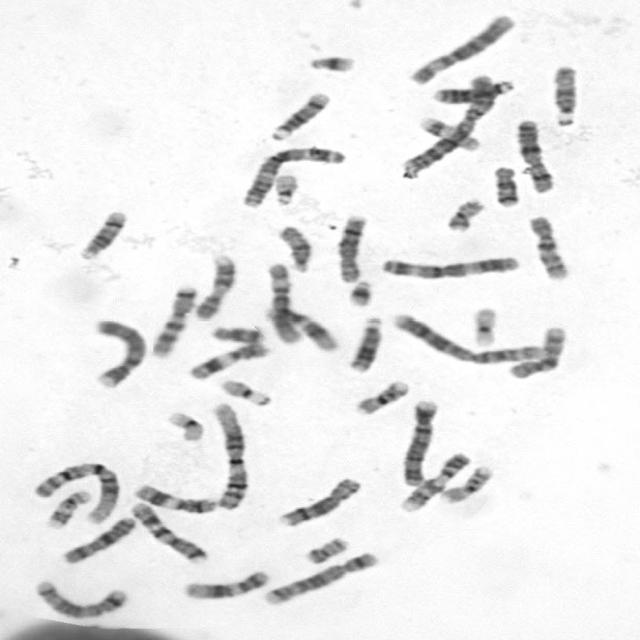A1: (30, 458, 122, 528), (207, 401, 250, 512)
A2: (396, 72, 498, 180), (388, 311, 546, 366)
A3: (235, 142, 347, 209), (377, 252, 519, 280)
B4: (88, 316, 149, 389), (397, 397, 439, 488)
B5: (261, 550, 381, 607), (30, 578, 129, 619)
C10: (504, 323, 568, 380), (523, 213, 572, 281)
C11: (184, 340, 272, 382), (130, 481, 217, 514)
C12: (261, 304, 341, 353), (180, 568, 270, 600)
C6: (404, 11, 517, 86), (264, 261, 305, 345)
C7: (126, 500, 212, 563), (147, 282, 199, 358)
C8: (274, 474, 364, 528), (332, 211, 368, 285)
C9: (396, 450, 472, 513), (192, 252, 239, 321)
D13: (345, 314, 385, 373), (428, 78, 516, 104)
D14: (265, 89, 333, 142), (76, 207, 130, 260)
D15: (548, 63, 581, 128), (274, 224, 314, 274)
E16: (437, 462, 495, 504), (350, 378, 411, 416)
E17: (416, 114, 480, 152), (43, 488, 92, 529)
E18: (490, 163, 521, 208), (209, 324, 267, 345)
F19: (163, 409, 206, 443), (467, 304, 500, 348)
F20: (441, 196, 488, 232), (301, 534, 351, 566)
G21: (304, 50, 359, 74), (345, 277, 375, 308)
G22: (218, 377, 274, 408), (270, 171, 302, 208)
X: (57, 514, 138, 566), (512, 116, 557, 195)
